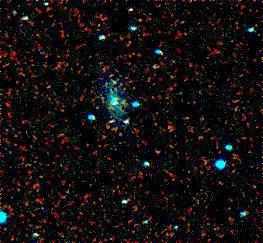star: (96, 63, 126, 93)
